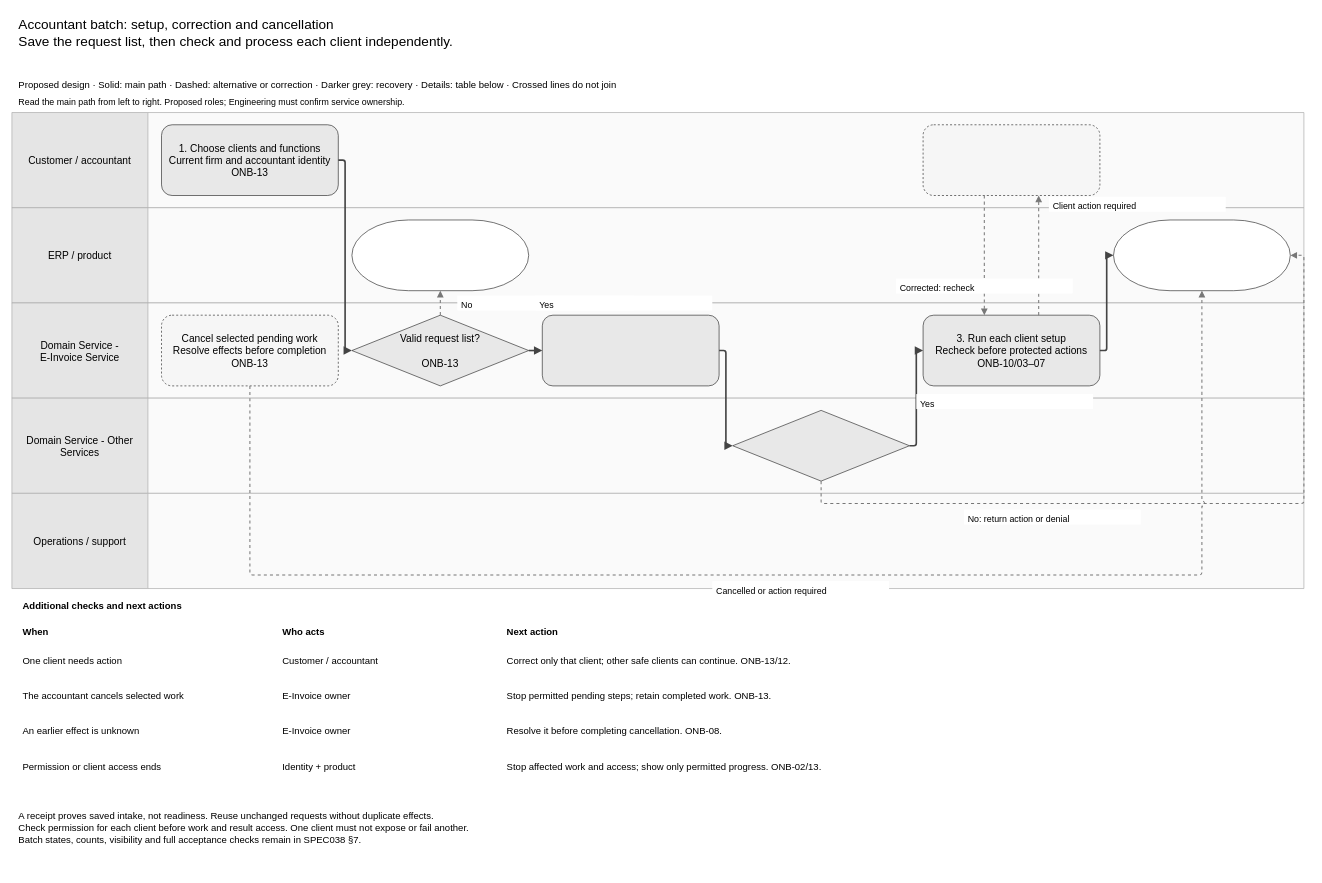
The diagram is 1322 pixels wide and 883 high, and some of its shapes have lost their labels. Here are the shapes that lost their labels. From the top down, the centre of each, then its label:
At pixel 1011 160: "Correct the affected client Other safe client items continue ONB-13/12".
At pixel 440 255: "Reject invalid list Do not start client work ONB-13".
At pixel 1201 255: "4. Show permitted results Keep each client result separate ONB-13/11".
At pixel 630 350: "2. Save list and return receipt Resume unfinished items after restart ONB-13/01".
At pixel 821 445: "Client work allowed? ONB-02".
